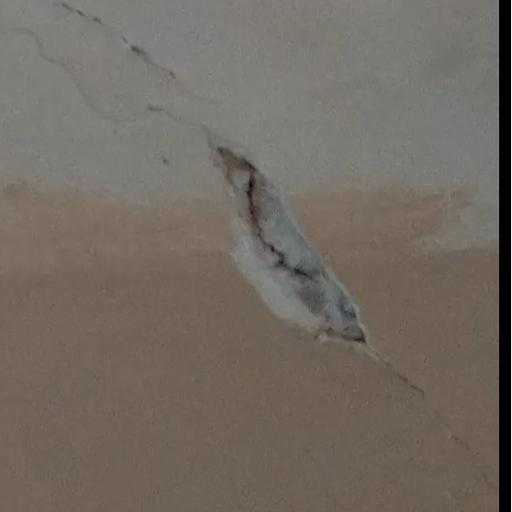spalling: (132, 68, 395, 404)
